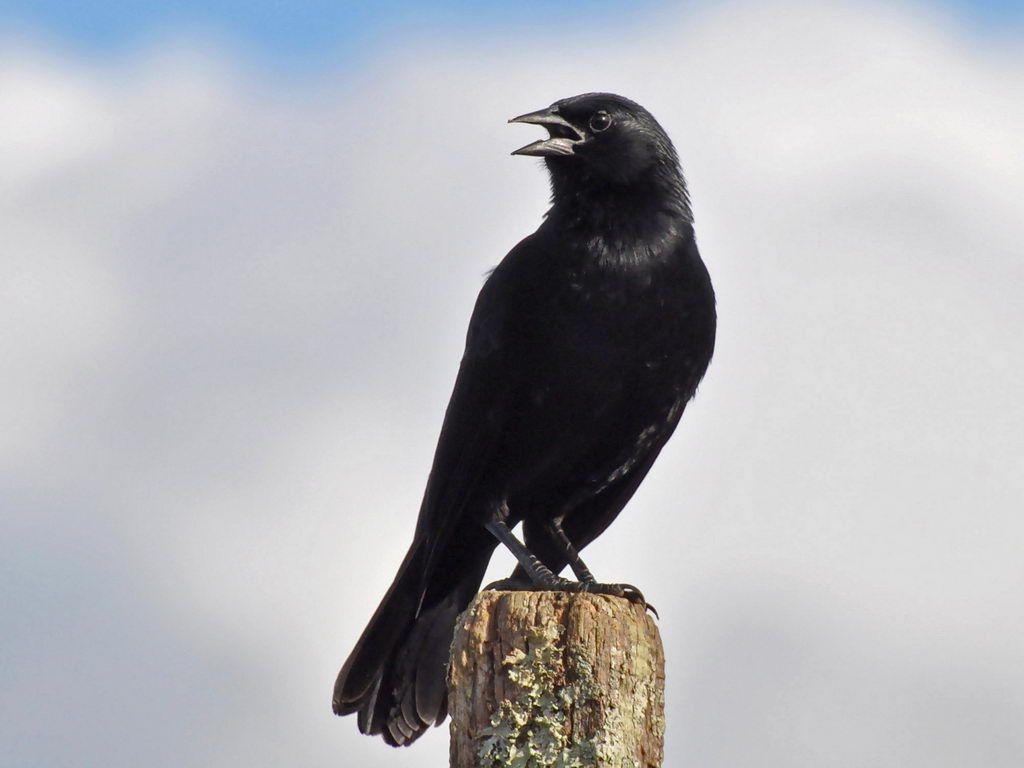grauna: (330, 89, 722, 748)
